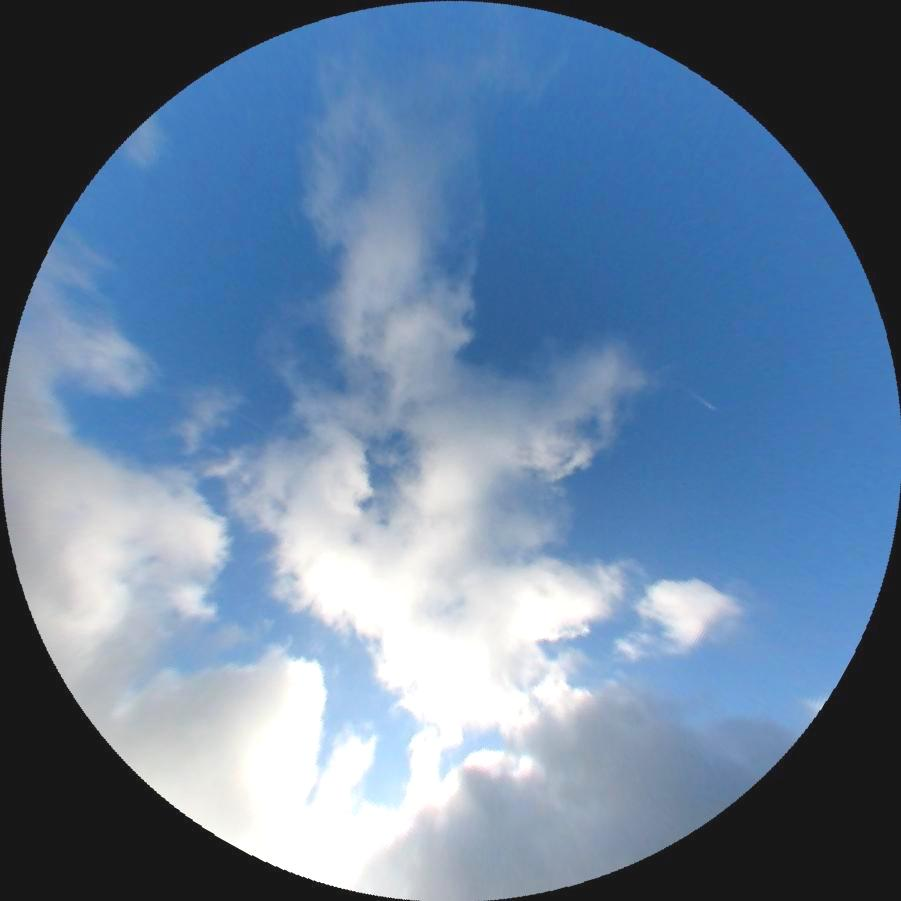contrail young: (684, 389, 718, 413)
